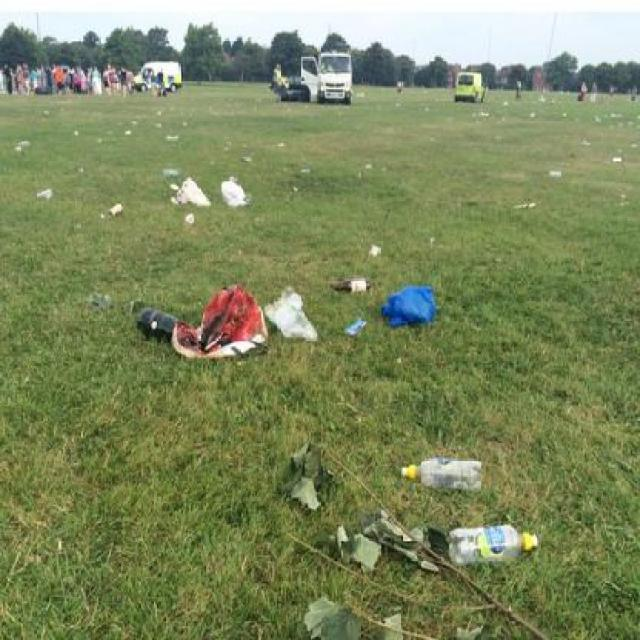garbage: (133, 288, 450, 364), (171, 165, 264, 220), (443, 515, 539, 564), (403, 455, 492, 492), (31, 179, 58, 203), (15, 137, 30, 158)
